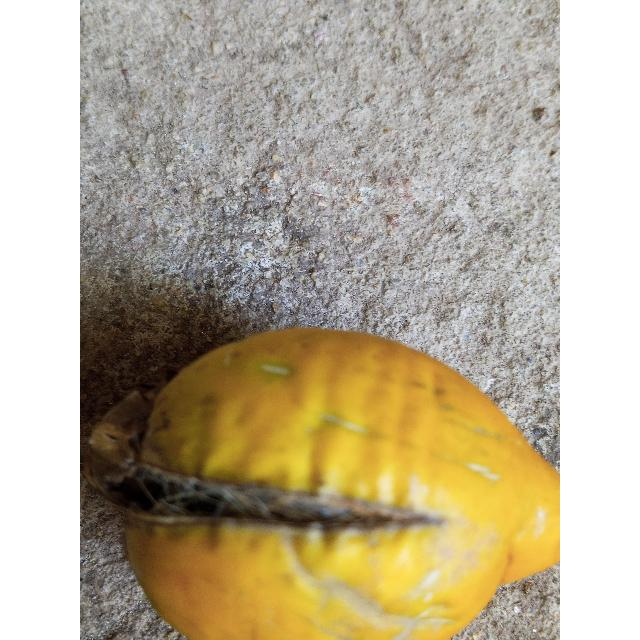damaged: (85, 328, 560, 640)
